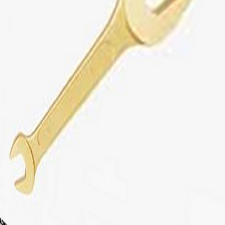Wrench: (6, 1, 200, 193)
